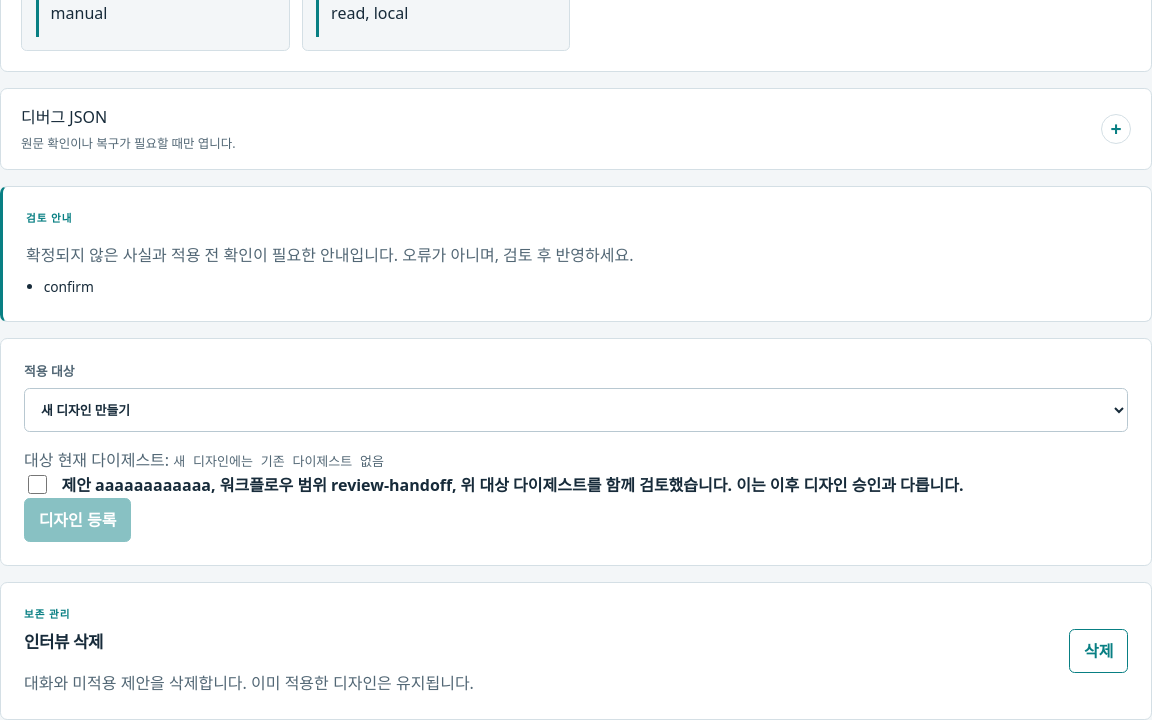
Test case: InterviewPageContent lifecycle › binds confirmation to the exact proposal, scope, and target digest
(page scrolled)
Click the checkbox labelled "제안 aaaaaaaaaaaa".
click(38, 485)  # box x1=28 y1=475 x2=47 y2=494
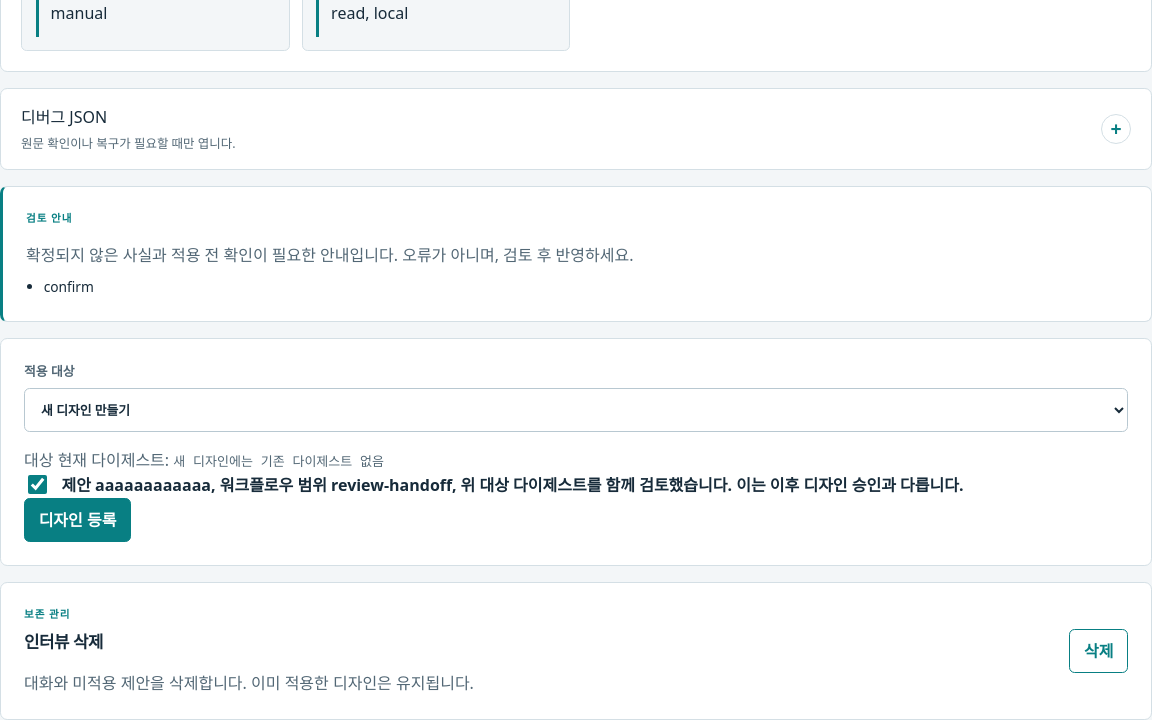
expect the button "디자인 등록" is enabled: met, box x1=24 y1=498 x2=131 y2=542
Select "기존 디자인 · Current Acme design" in the dropdown labelled "적용 대상" at (576, 410), box x1=24 y1=388 x2=1128 y2=432
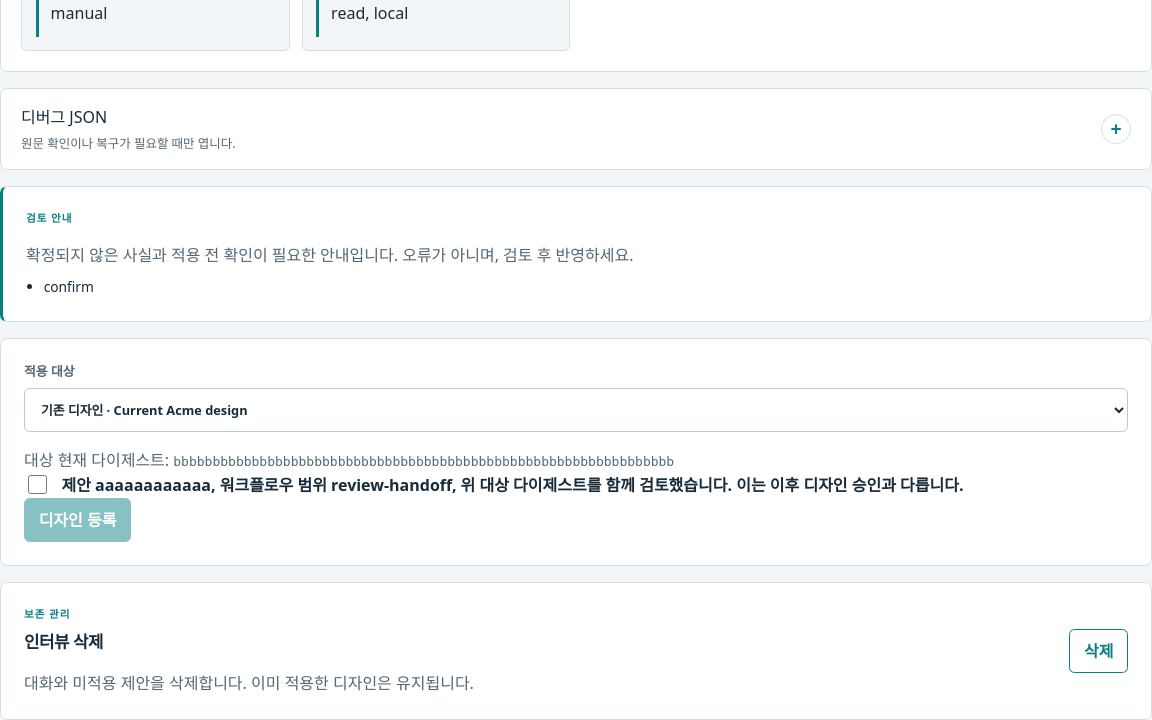
expect the checkbox labelled "제안 aaaaaaaaaaaa" is not checked: met, box x1=28 y1=475 x2=47 y2=494
expect the button "디자인 등록" is disabled: met, box x1=24 y1=498 x2=131 y2=542
